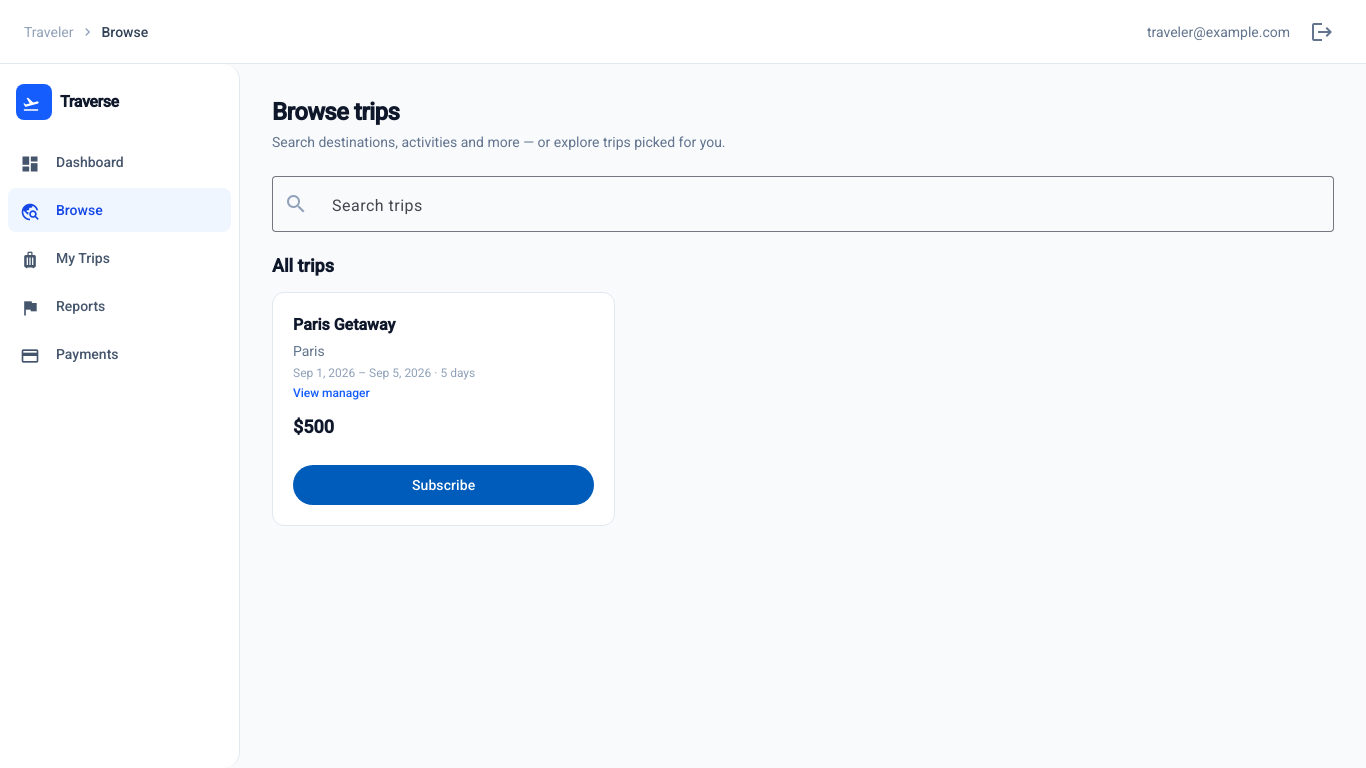
Test: Traveler browse, search & subscribe › lists available trips and searches via Elasticsearch
Expected: the heading "Paris Getaway" is shown, [293,315,395,334]
Type "paris" into the dropdown labelled "Search trips".
click(825, 204); type("paris")  # box [332,192,1318,216]
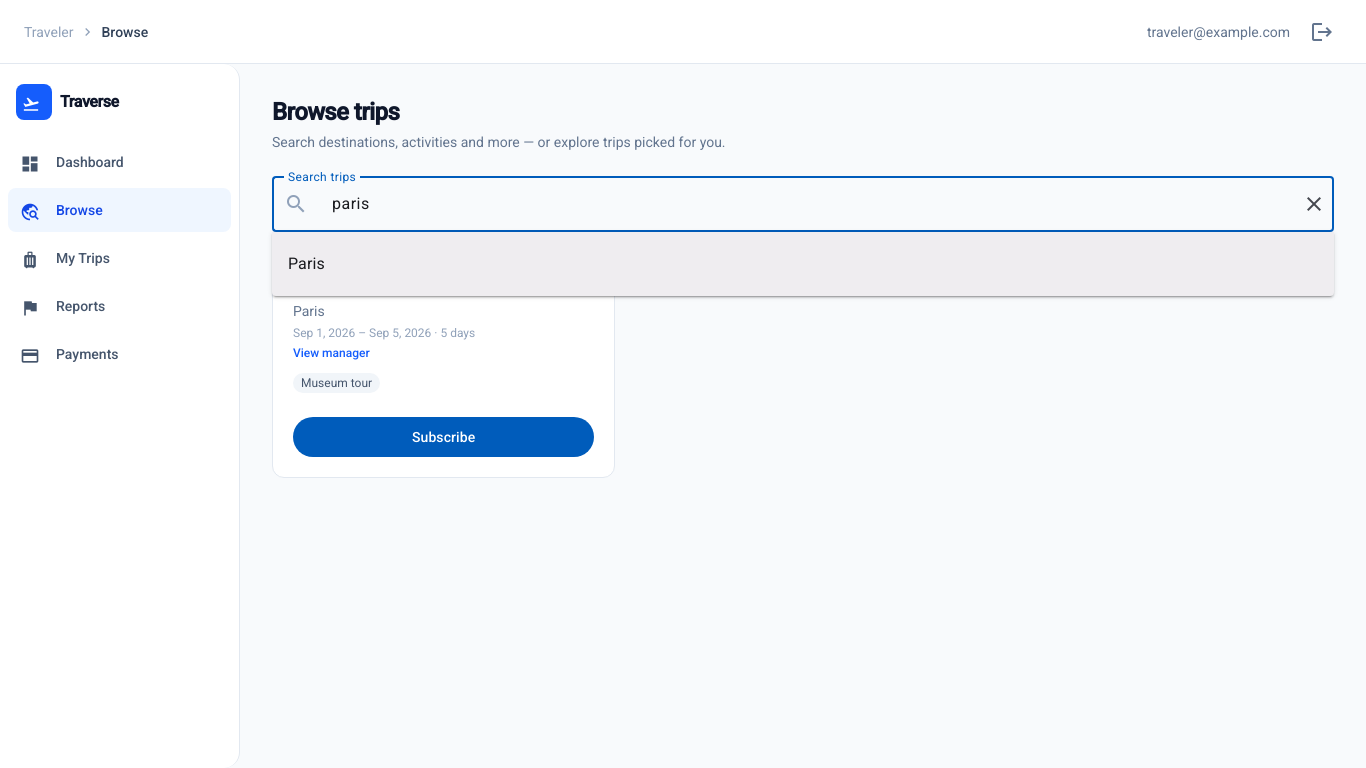
Now the text "Museum tour" is shown, box [293,373,380,393]
